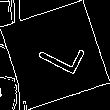L_NW: (26, 29, 84, 81)
